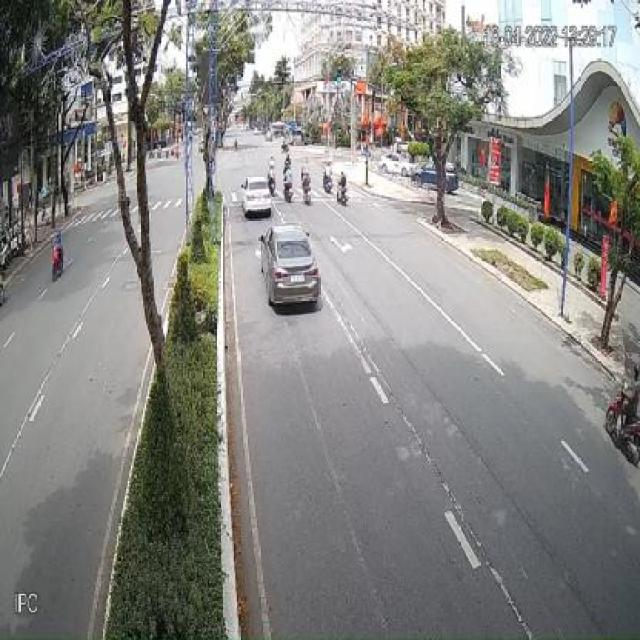car: (263, 224, 321, 310), (244, 179, 275, 222)
motorbike: (606, 386, 640, 468), (53, 242, 69, 286), (321, 165, 335, 192), (338, 170, 349, 204), (302, 170, 313, 204), (283, 172, 292, 203)
